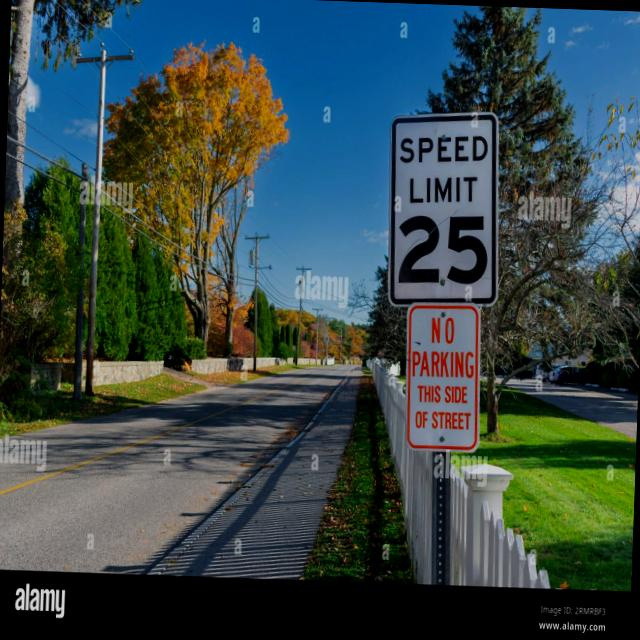Speed Limit Signs: (382, 106, 504, 309)
